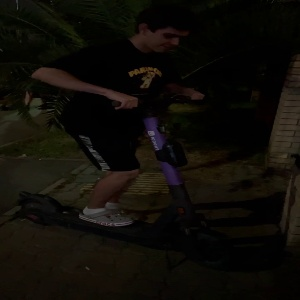human on a scooter: (15, 3, 236, 269)
